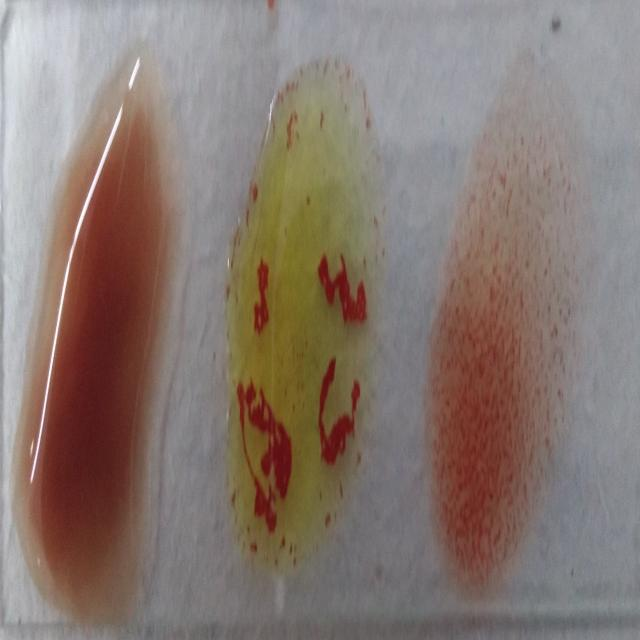B: (230, 72, 378, 578)
D: (430, 82, 567, 586)
